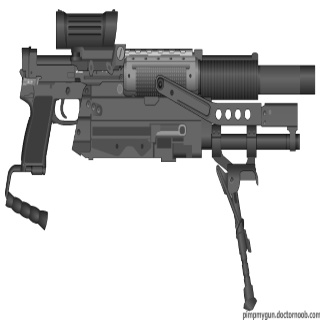rifle: (6, 3, 319, 167)
